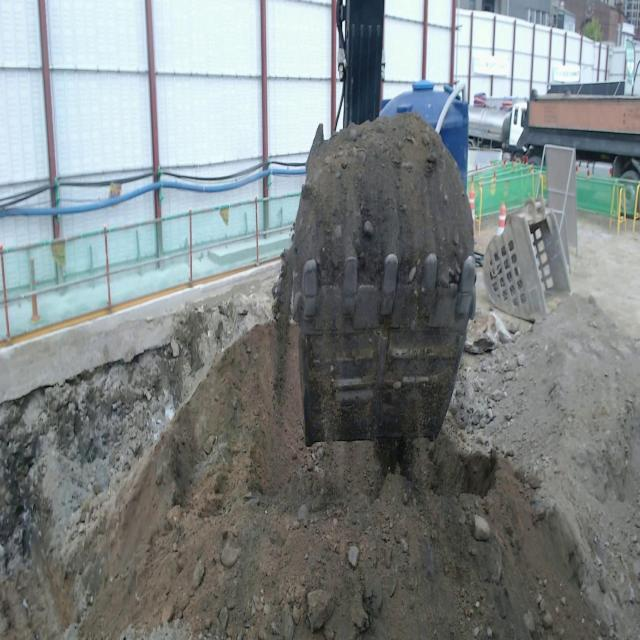red-sand: (79, 322, 600, 639)
white-sand: (451, 296, 640, 639)
